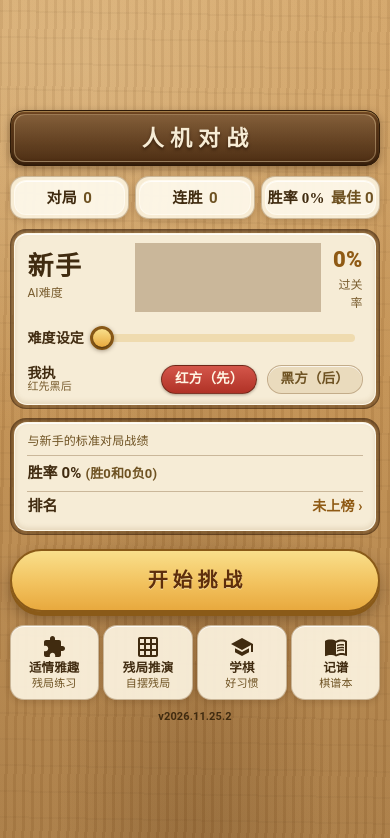
Test: 全局主页按钮（v2026.11.23.8） › 适情雅趣页把「‹ 返回」换成了主页按钮，点了回主页
Step 1. Click the text "适情雅趣" → [54, 669], box 29,662 -> 79,676
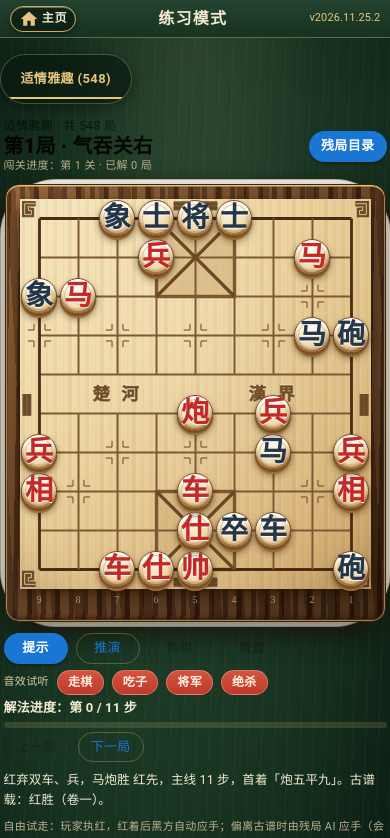
Step 2. Click the button with test id "practice-home" → [43, 19], box 10,6 -> 76,32
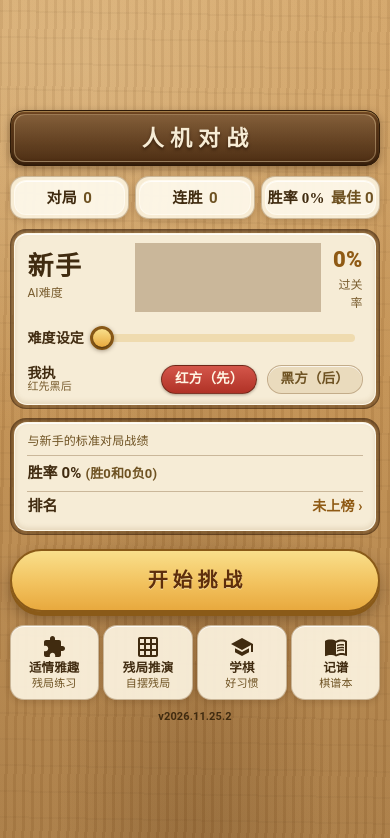
Expected: the button "开始挑战" is shown, 10,549 -> 380,612
